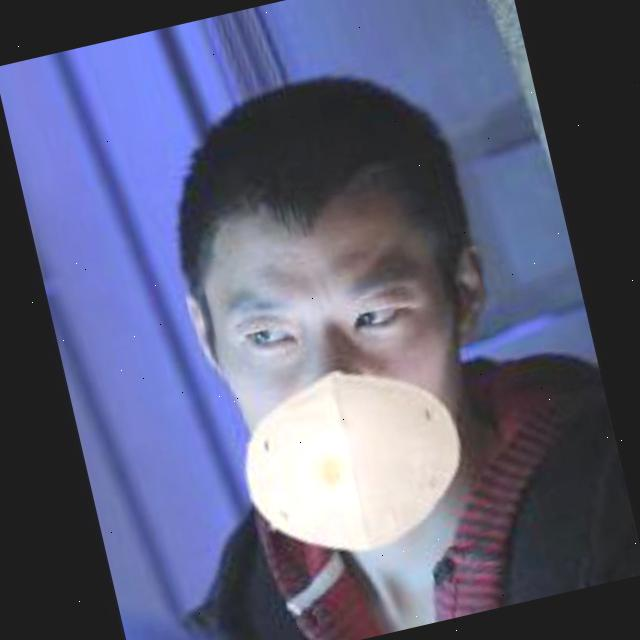suspicion: (85, 92, 530, 601)
